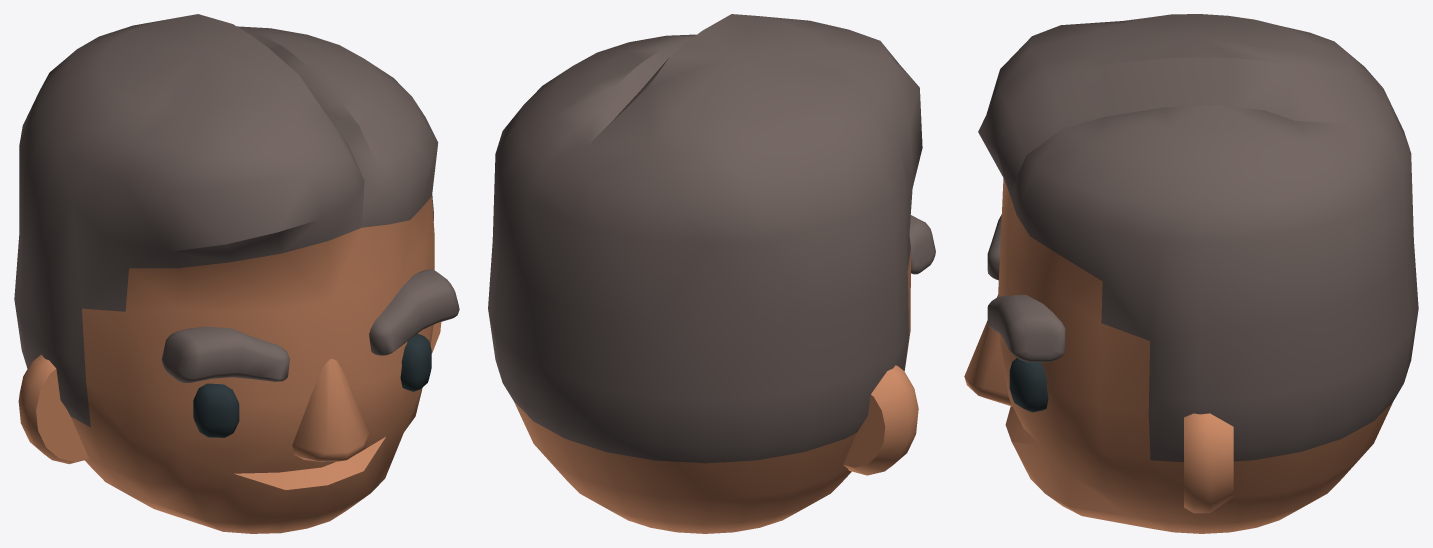
Rendered from knightHeadB.dae.
The picture shows the model from 3 angles, left to right: view 1: azimuth 30°, elevation 25°; view 2: azimuth 150°, elevation 25°; view 3: azimuth 270°, elevation 25°; orthographic projection.
Visible parts, largest first — view 1: knightHeadB; view 2: knightHeadB; view 3: knightHeadB.
Boxes of the visible parts, box(x1,y1,x2,y2) form: knightHeadB: box(14, 14, 459, 533); knightHeadB: box(488, 14, 935, 533); knightHeadB: box(964, 14, 1418, 533).
Size of the model in its own units: 1.18 by 1.11 by 1.19.
